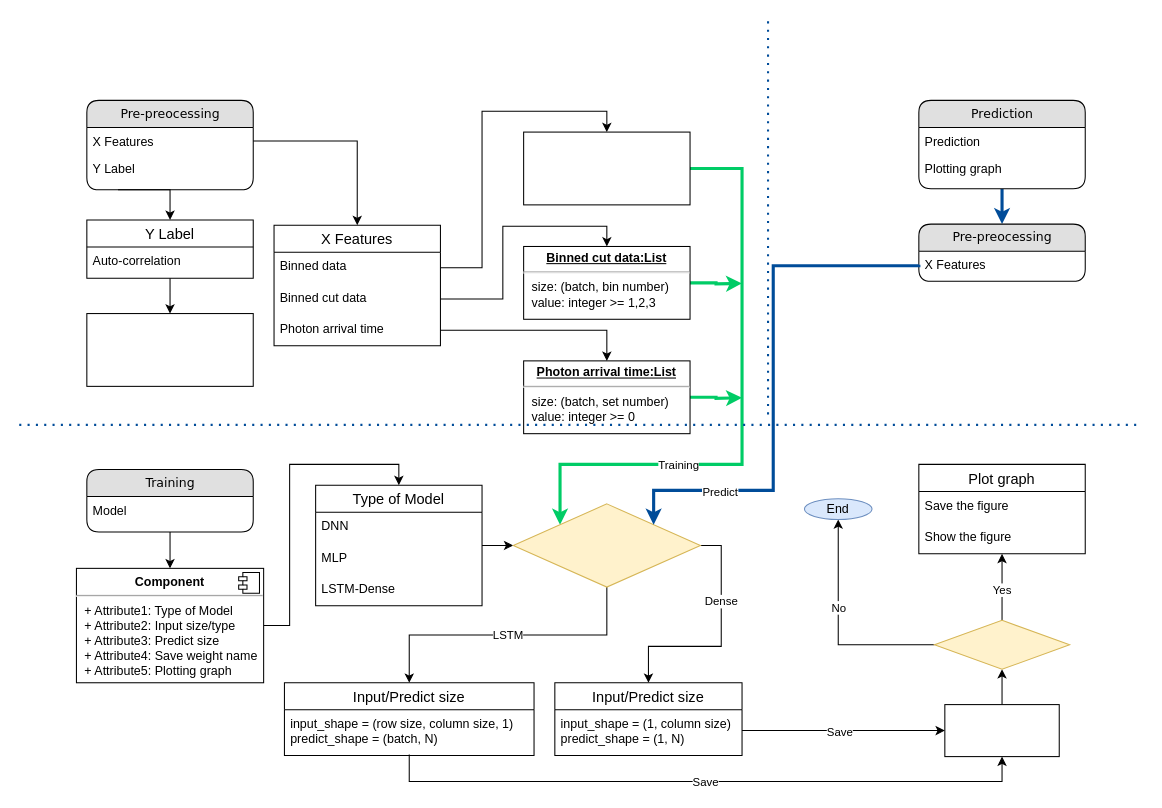
Some shapes in this 1162 by 808 pixel diagram are drawn without their labels. The centre of each missing label's shape, as x and y in pixels:
Auto-correlation:List size: (n, bin number) value: float >= 0: [169,349]
Binned data:List size: (batch, bin number) value: integer >= 0: [606,168]
Dense or LSTM: [606,545]
Plotting?: [1001,644]
Weight Name: [1001,730]
